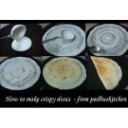dosa: (44, 57, 86, 90), (1, 55, 38, 89), (89, 55, 126, 89), (43, 24, 84, 54), (89, 22, 127, 54)
